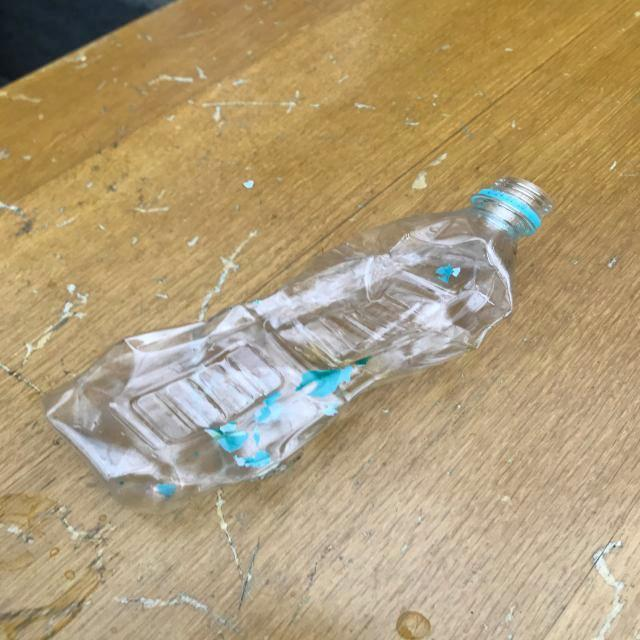bottle: (45, 176, 554, 514)
